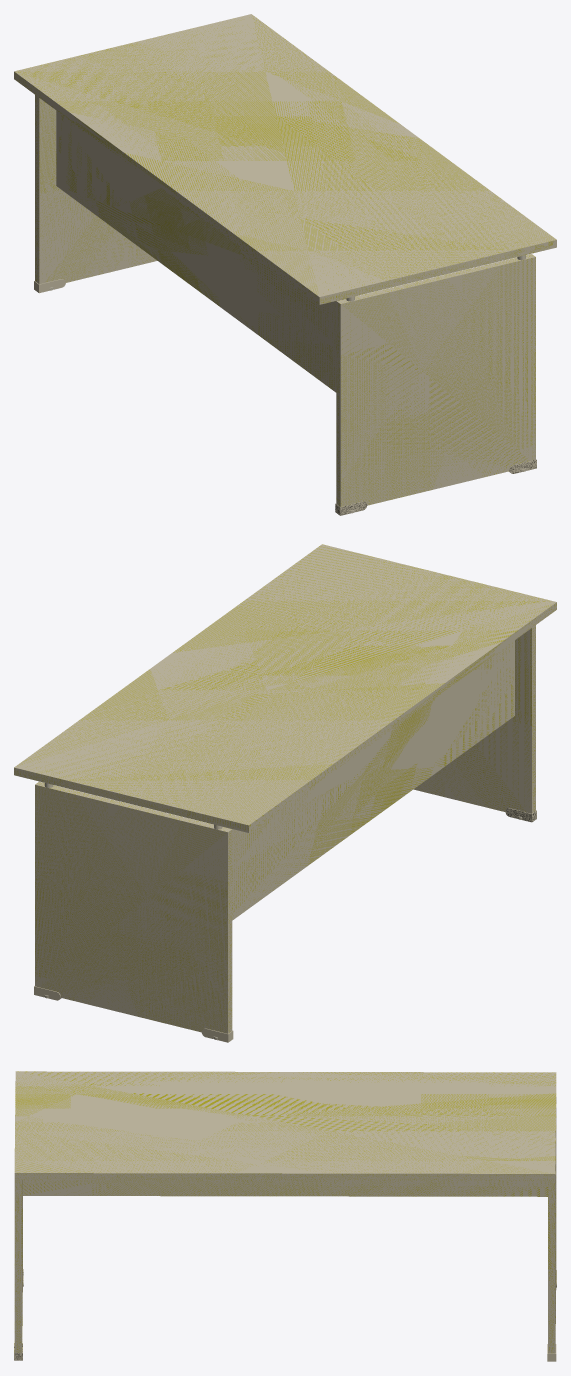
Rendered from desk.dae.
3 renders of one model, top to bottom at view 1: azimuth 30°, elevation 25°; view 2: azimuth 150°, elevation 25°; view 3: azimuth 270°, elevation 25°, orthographic. The views are drawn at different scales.
Parts seen in each view (by area): view 1: group_1, Group_2_003, group_2, Group_2_002; view 2: group_1, Group_2_002, group_2, Group_2_003; view 3: group_1, group_2, Group_2_002, Group_2_003.
Boxes of the visible parts, x1=… form: group_1: x1=14, y1=14, x2=556, y2=304; Group_2_003: x1=336, y1=254, x2=535, y2=506; group_2: x1=56, y1=110, x2=357, y2=392; Group_2_002: x1=35, y1=95, x2=157, y2=284; group_1: x1=14, y1=544, x2=556, y2=832; Group_2_002: x1=35, y1=781, x2=232, y2=1033; group_2: x1=212, y1=640, x2=514, y2=920; Group_2_003: x1=413, y1=625, x2=535, y2=813; group_1: x1=14, y1=1071, x2=556, y2=1180; group_2: x1=23, y1=1180, x2=547, y2=1196; Group_2_002: x1=548, y1=1104, x2=556, y2=1353; Group_2_003: x1=14, y1=1180, x2=22, y2=1352.
Bounding box in the file's own units: 0.8075 × 1.81 × 0.7219.
